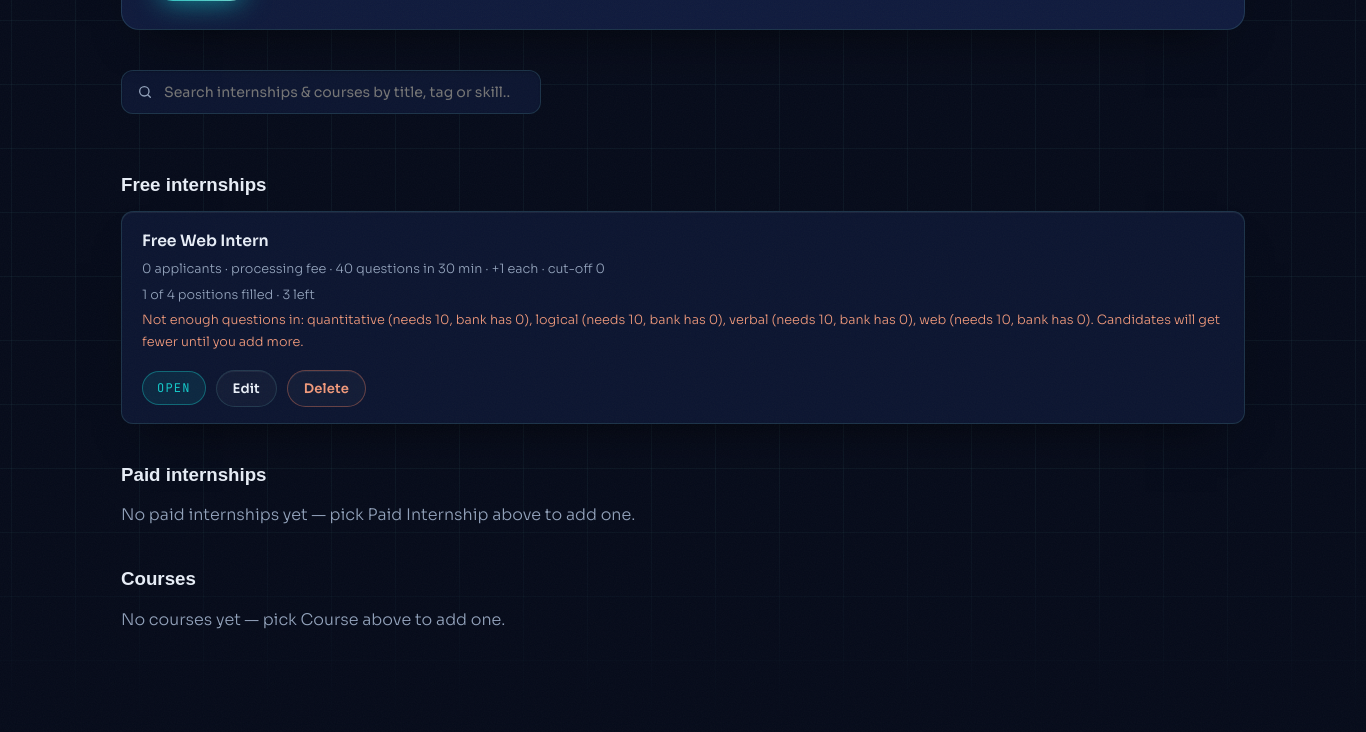
Scenario: admin course form › one form for free internships, paid internships and courses › opens a free internship's Edit in the free-internship form
(page scrolled)
Click the button "Edit". click: (246, 388)
box: top-left (216, 370), bottom-right (277, 407)
(page scrolled)
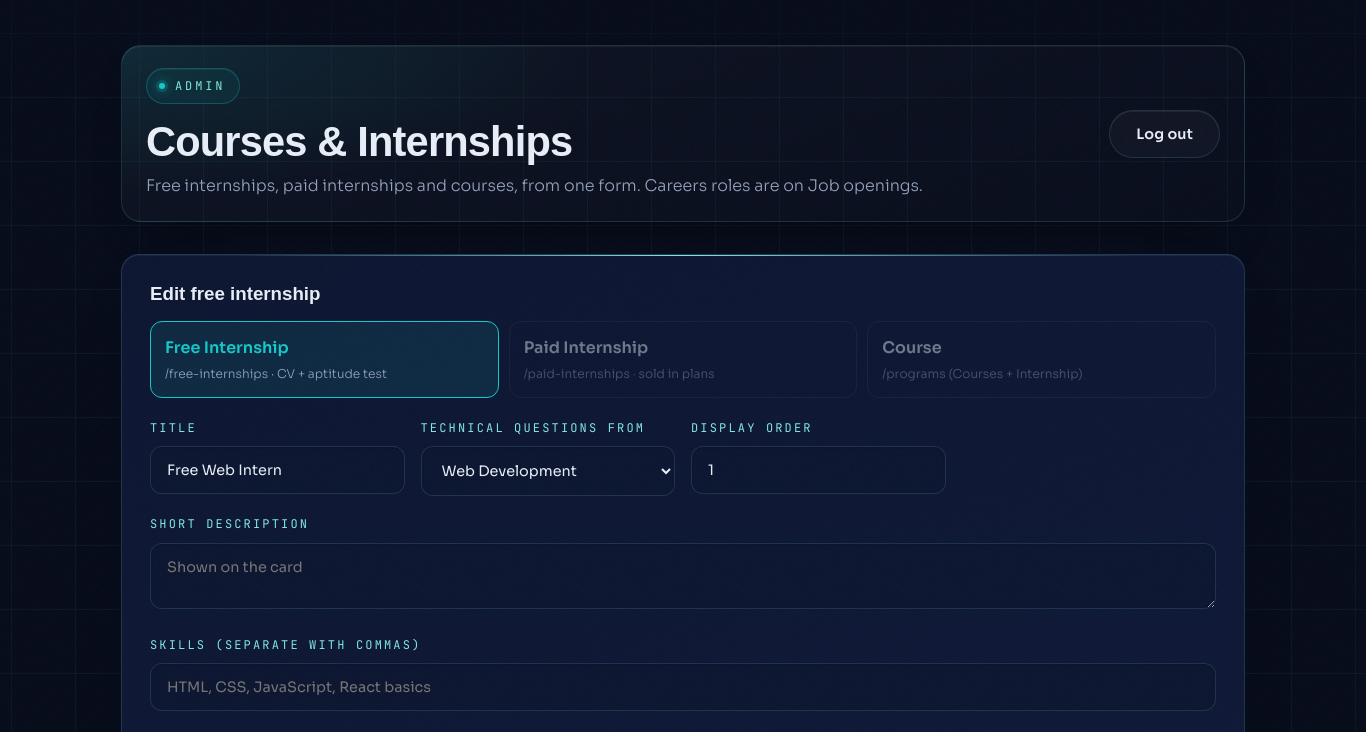
Expected: the field with id "jo-title" holds "Free Web Intern", top-left (150, 446), bottom-right (404, 494)
Expected: the radio button with class "kind-option" that starts with "Course" is disabled, top-left (867, 321), bottom-right (1216, 398)
